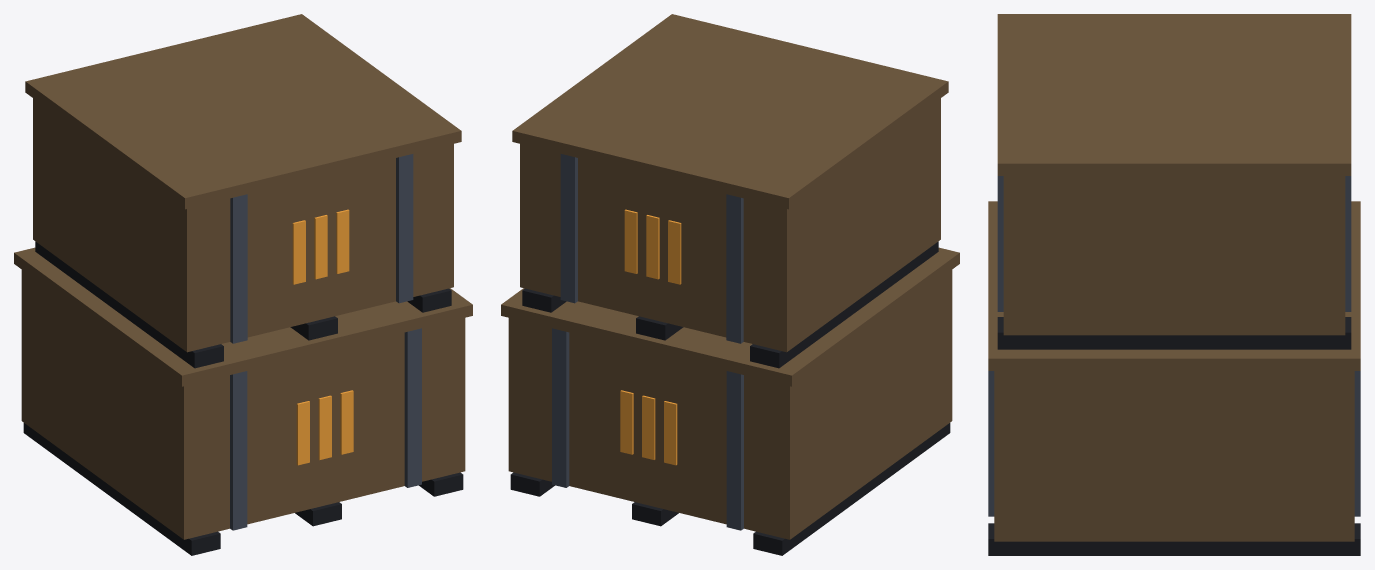
Rendered from CrateStack.glb.
3 renders of one model, left to right at view 1: azimuth 30°, elevation 25°; view 2: azimuth 150°, elevation 25°; view 3: azimuth 270°, elevation 25°, orthographic. The views are drawn at different scales.
Visible parts, largest first — view 1: Timber, Steel, Dark, Accent; view 2: Timber, Steel, Dark, Accent; view 3: Timber, Dark, Steel.
Part boxes in pixels (box(x1,y1,x2,y2)): Timber: box(14, 14, 472, 539); Steel: box(230, 154, 421, 530); Dark: box(23, 241, 463, 555); Accent: box(292, 209, 353, 465); Timber: box(501, 14, 959, 539); Steel: box(552, 154, 743, 530); Dark: box(510, 241, 950, 555); Accent: box(620, 209, 681, 465); Timber: box(988, 14, 1360, 541); Dark: box(988, 317, 1360, 555); Steel: box(988, 176, 1360, 516).
Size of the model in its own units: 6 by 7 by 6.
